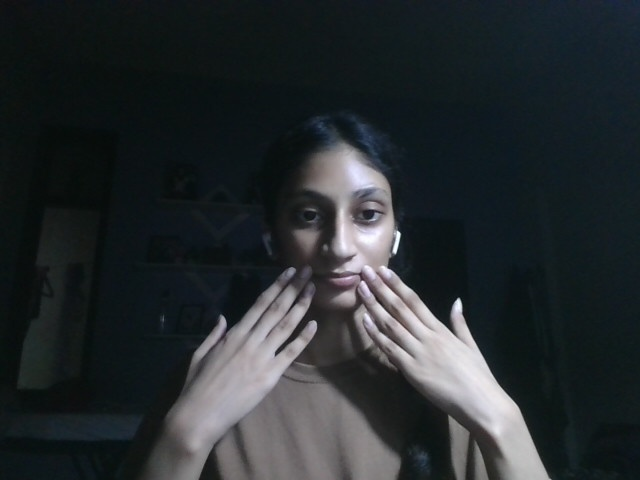thank you: (156, 264, 546, 434)
